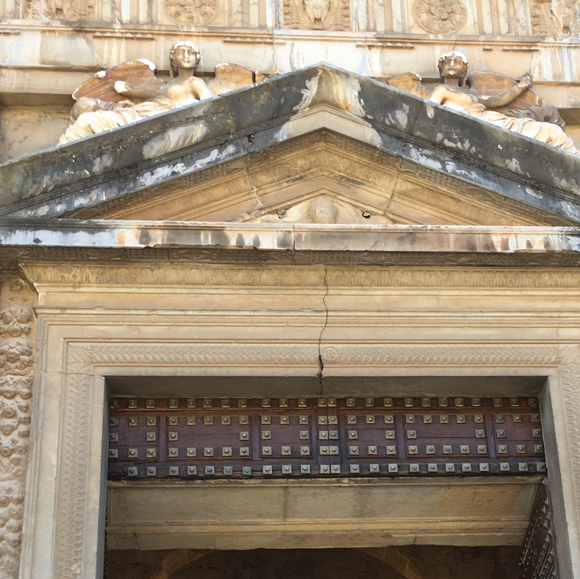fronton: (1, 59, 580, 262)
